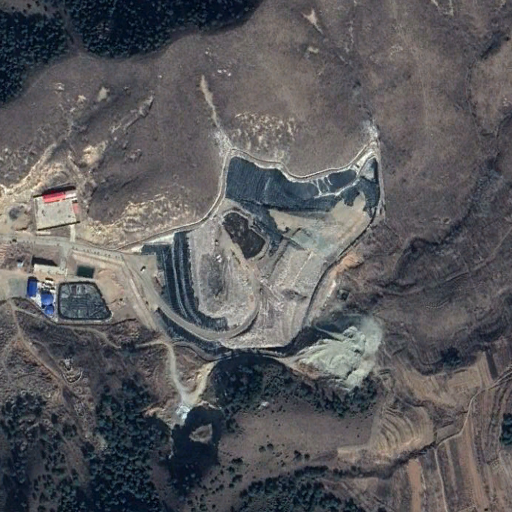lf: (134, 149, 398, 358)
